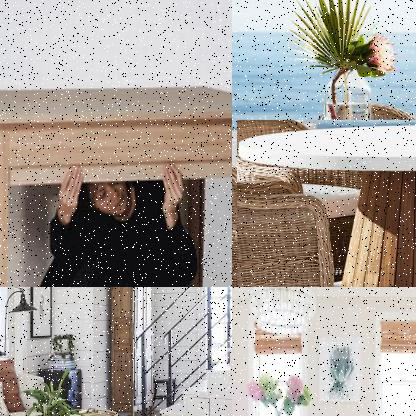table: (0, 82, 231, 286), (236, 120, 415, 286)
